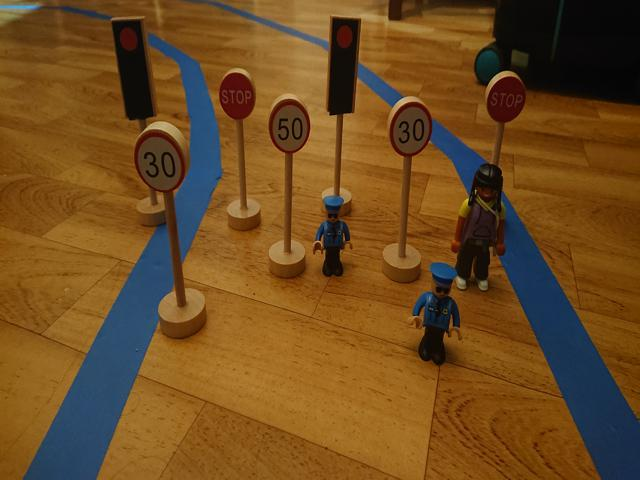30 speed sign: (134, 132, 186, 192), (387, 102, 434, 158)
50 speed sign: (267, 102, 311, 153)
person: (453, 162, 506, 292), (407, 261, 463, 366), (312, 194, 355, 277)
red light: (117, 22, 149, 109), (330, 22, 358, 110)
stop sign: (482, 75, 527, 124), (219, 71, 255, 118)
